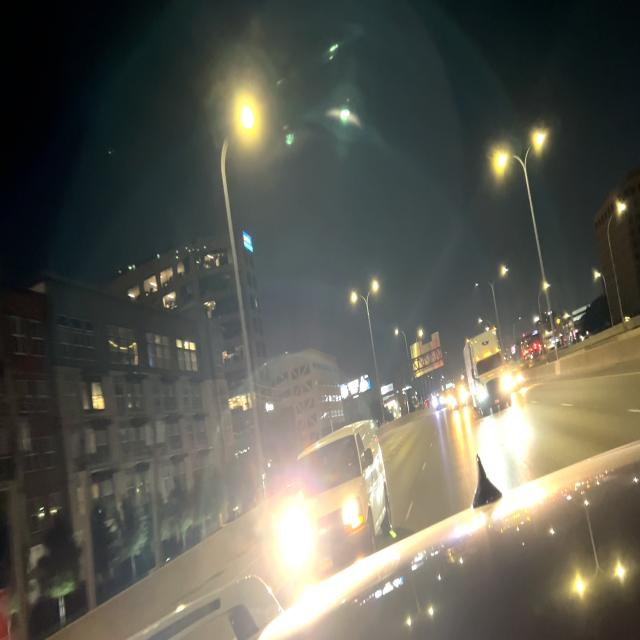back-of-sign: (409, 332, 445, 380)
